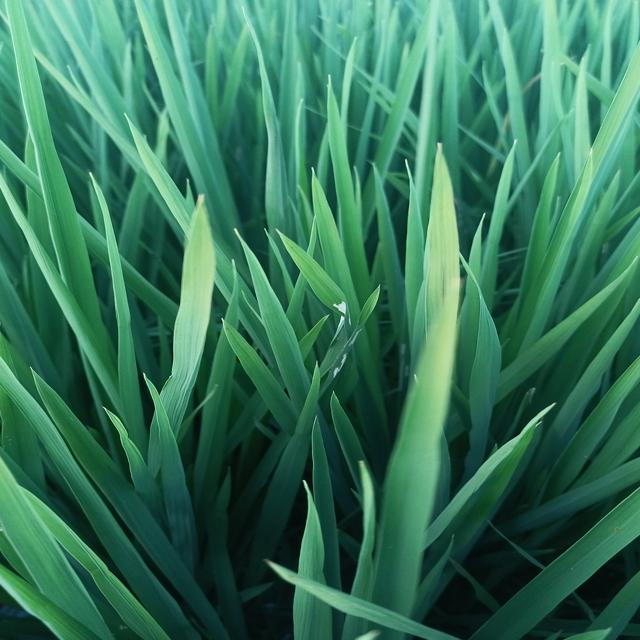brown plant hopper: (334, 323, 366, 383), (327, 293, 352, 332)
